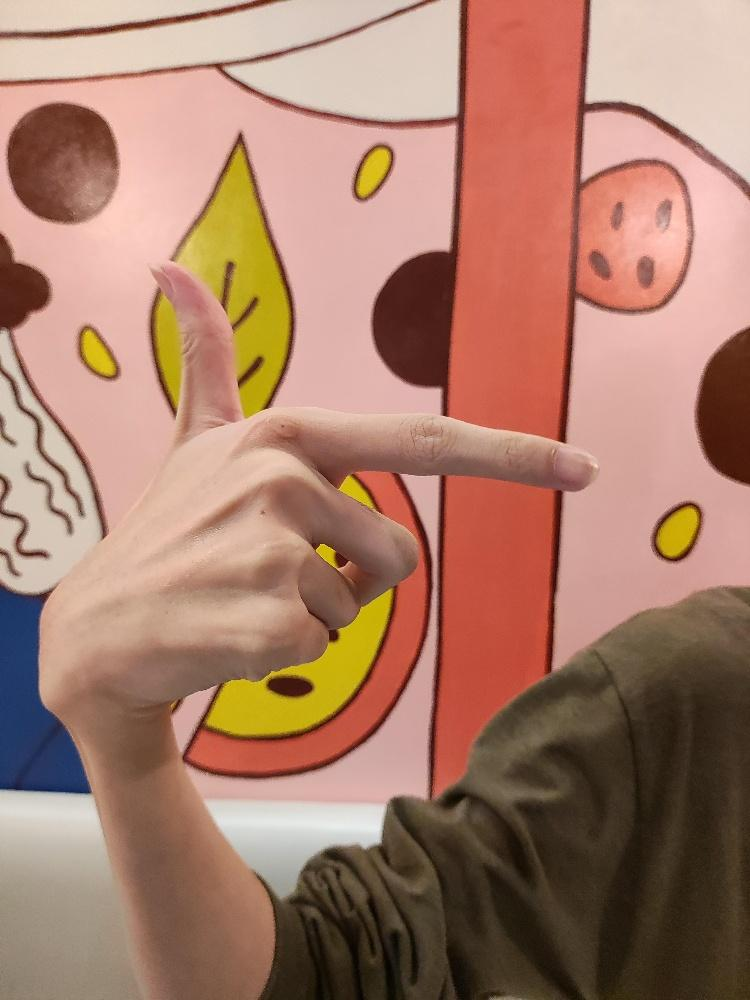g: (35, 257, 603, 720)
